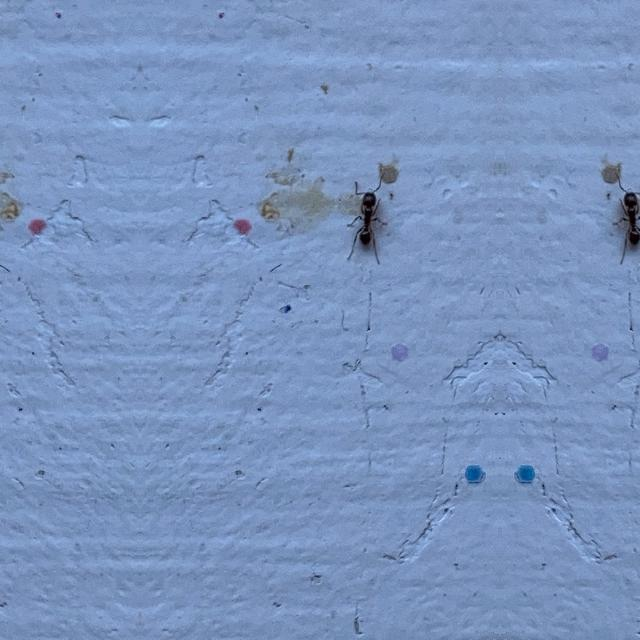Temnothorax: (345, 170, 393, 256), (606, 170, 640, 254)
